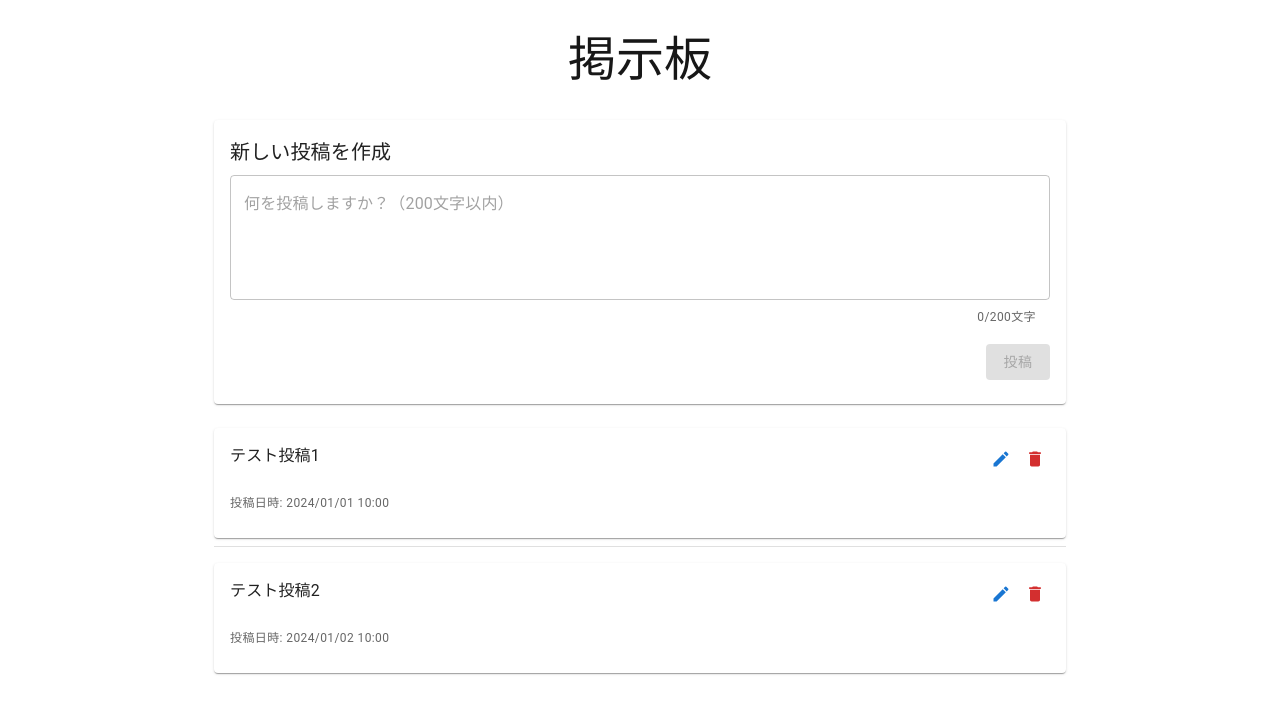
it: BoardApp › 投稿の削除 › 削除確認ダイアログが表示される
expect the text "テスト投稿1" is shown: met, box [230,446,320,465]
Note: 削除ボタンをクリック
Click the button with test id "DeleteIcon".
click(1035, 459)  # box [1020,444,1050,474]
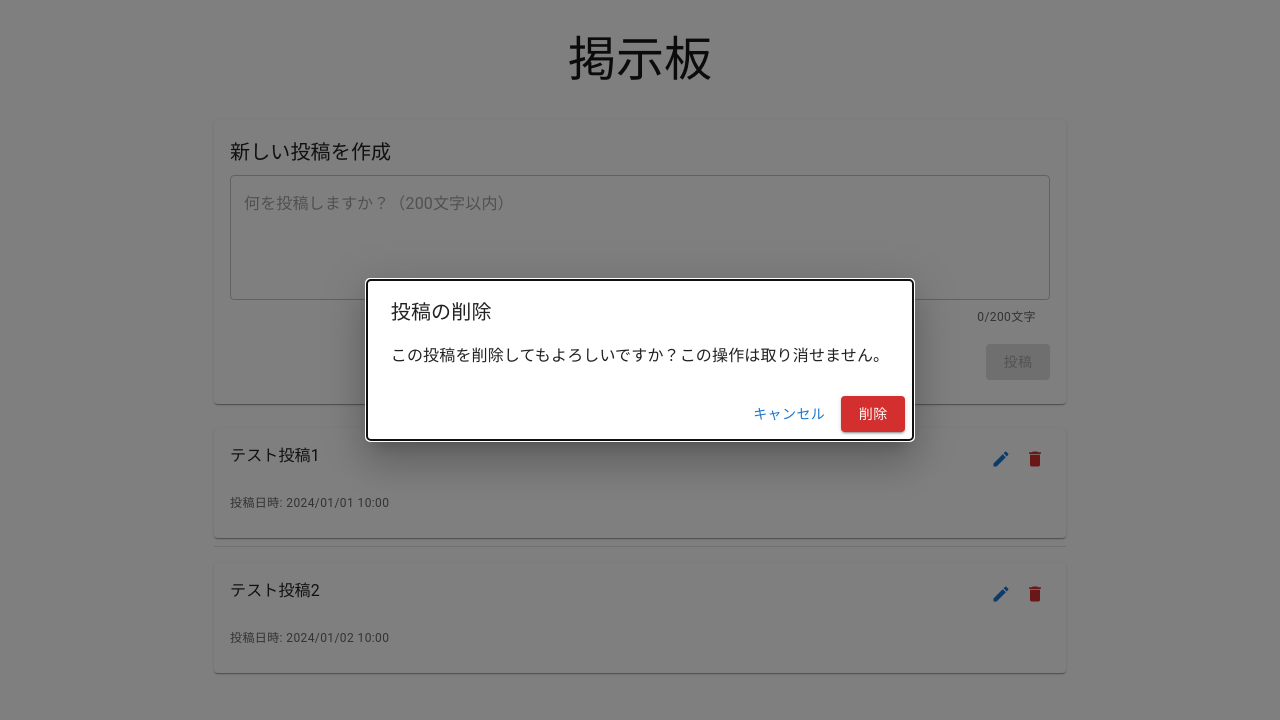
expect the heading "投稿の削除" is shown: met, box [391,300,492,324]
expect the text "この投稿を削除してもよろしいですか？この操作は取り消せません。" is shown: met, box [391,347,889,364]
